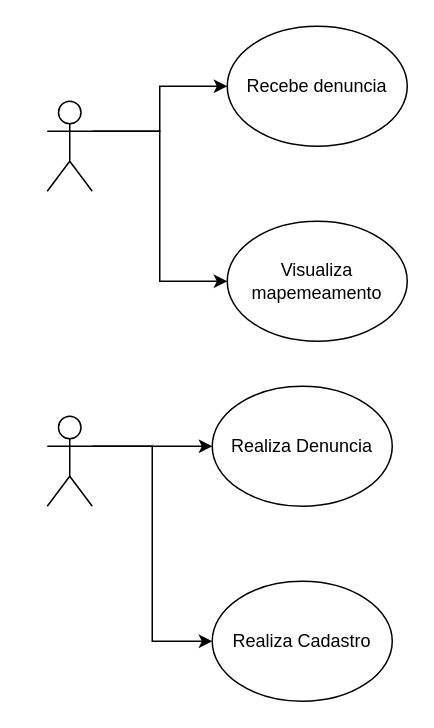
Some shapes in this 434 by 728 pixel diagram are drawn without their labels. The shapes that lost their labels are listed below. From the top down, each one's centre as x and y in pixels, then its label:
At pixel 69 145: "Encanador".
At pixel 69 460: "Cidadão".
